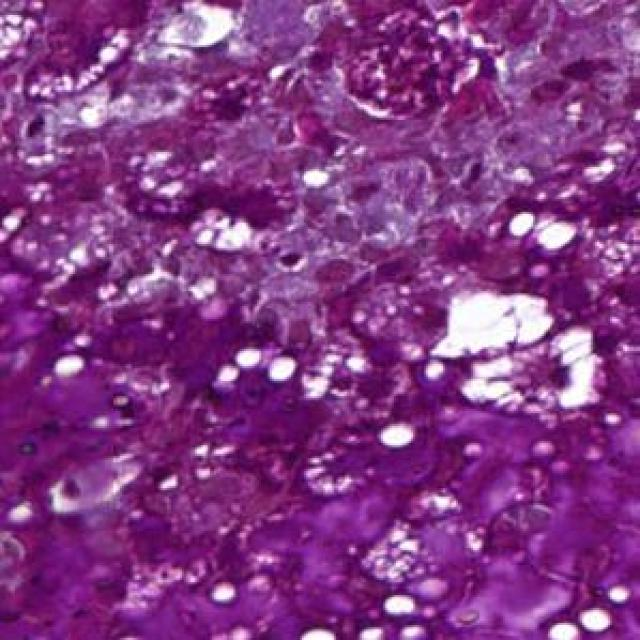ballooning: (424, 284, 610, 424)
